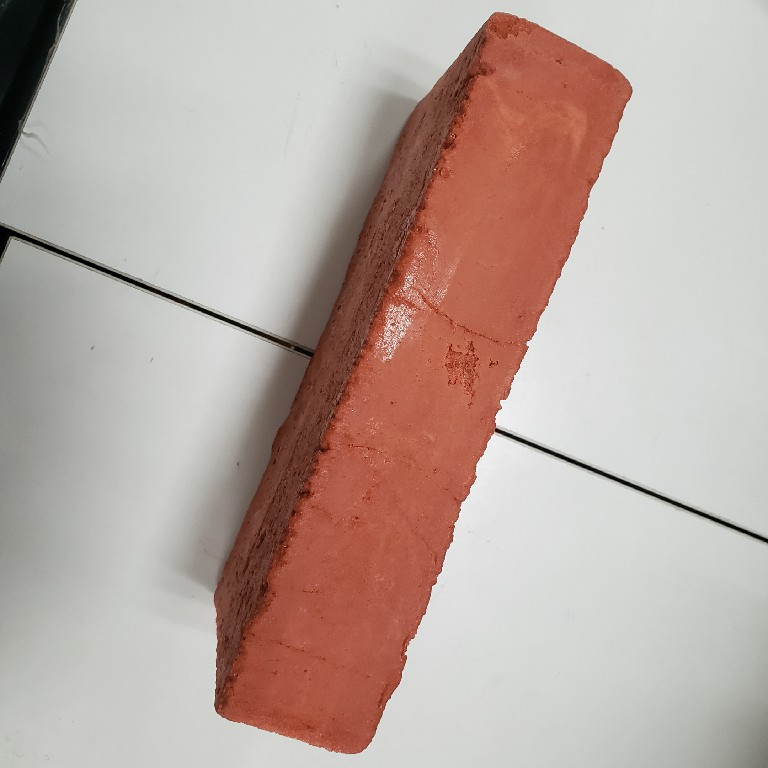brick: (211, 8, 637, 756)
